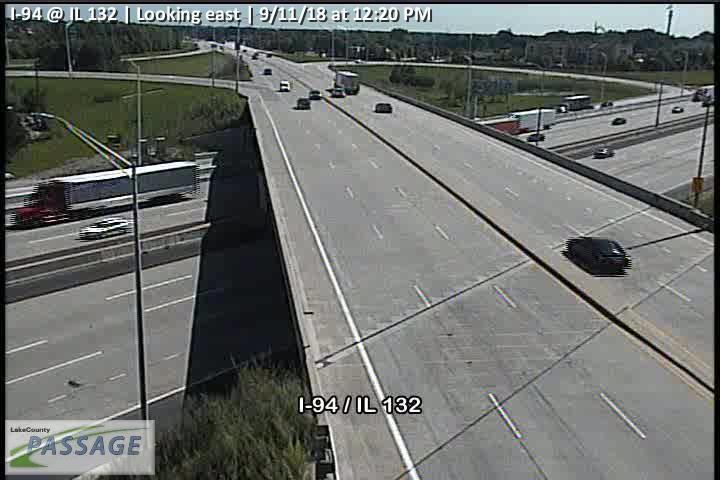Sedan: (567, 234, 629, 276), (77, 218, 129, 237), (591, 146, 613, 157), (298, 97, 311, 111), (375, 101, 391, 112), (330, 87, 345, 96), (308, 89, 321, 98), (279, 81, 289, 91)
Truck: (14, 160, 198, 226), (477, 107, 555, 137), (336, 70, 361, 95)
